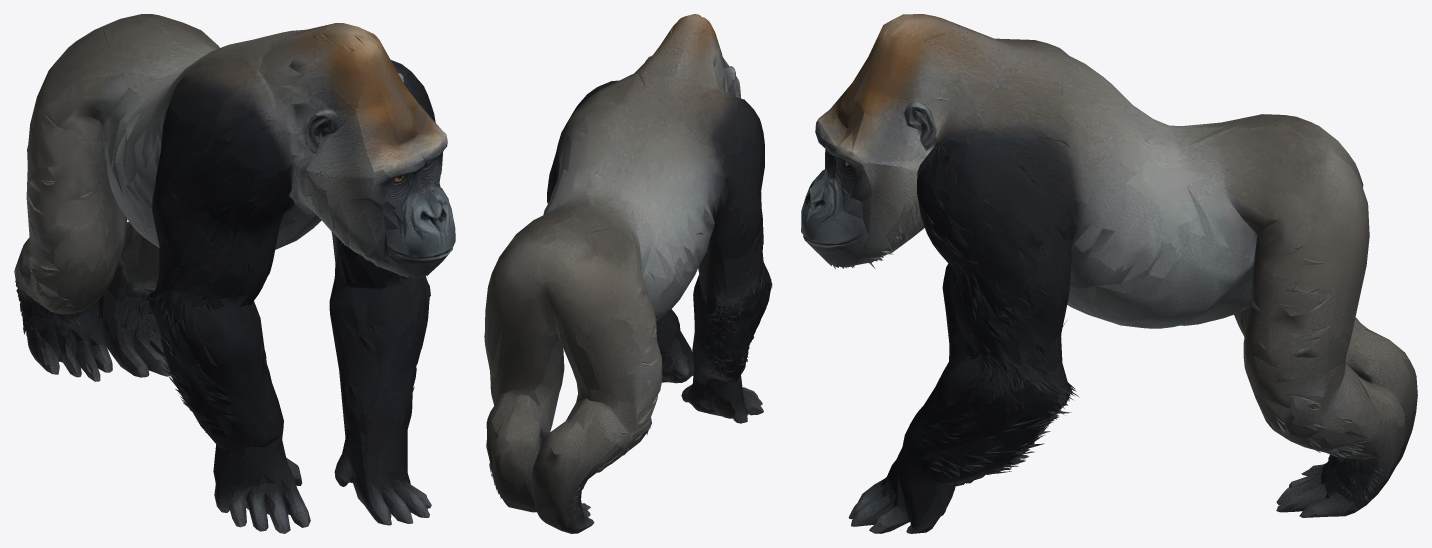
Rendered from animal_western_gorilla.glb.
3 views of the same model, side by side, from view 1: azimuth 30°, elevation 25°; view 2: azimuth 150°, elevation 25°; view 3: azimuth 270°, elevation 25° (orthographic). The views are drawn at different scales.
Bounding box in the file's own units: 0.9668 × 1.67 × 1.9.
Materials: 1 (1 with a texture image).
